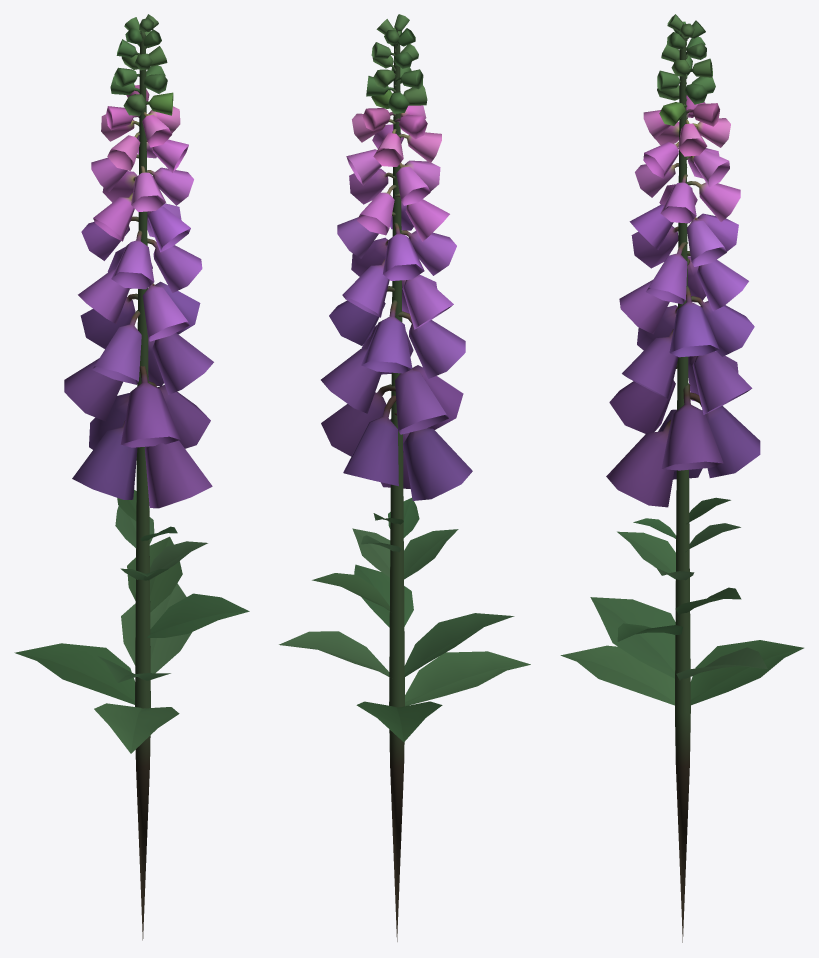
Rendered from plants-flowers-foxglove_v3.glb.
3 renders of one model, left to right at view 1: azimuth 30°, elevation 25°; view 2: azimuth 150°, elevation 25°; view 3: azimuth 270°, elevation 25°, orthographic.
Visible parts, largest first — view 1: Foxglove_v3; view 2: Foxglove_v3; view 3: Foxglove_v3.
Part boxes in pixels (x1,y1,x2,y2): Foxglove_v3: (14,14,249,940); Foxglove_v3: (279,14,530,941); Foxglove_v3: (560,14,803,942).
Size of the model in its own units: 0.2025 by 1.2 by 0.2867.
